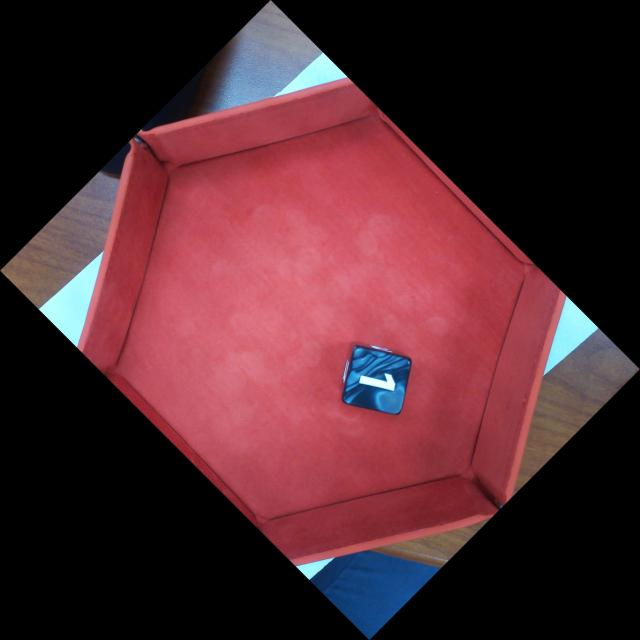dice: (340, 343, 415, 418)
